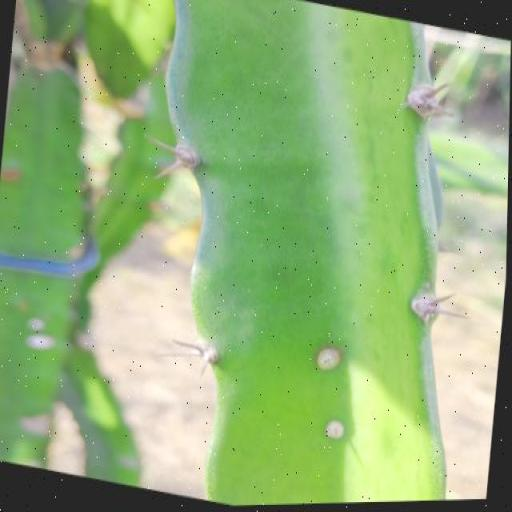stemcanker: (306, 334, 353, 386), (315, 404, 350, 450)
